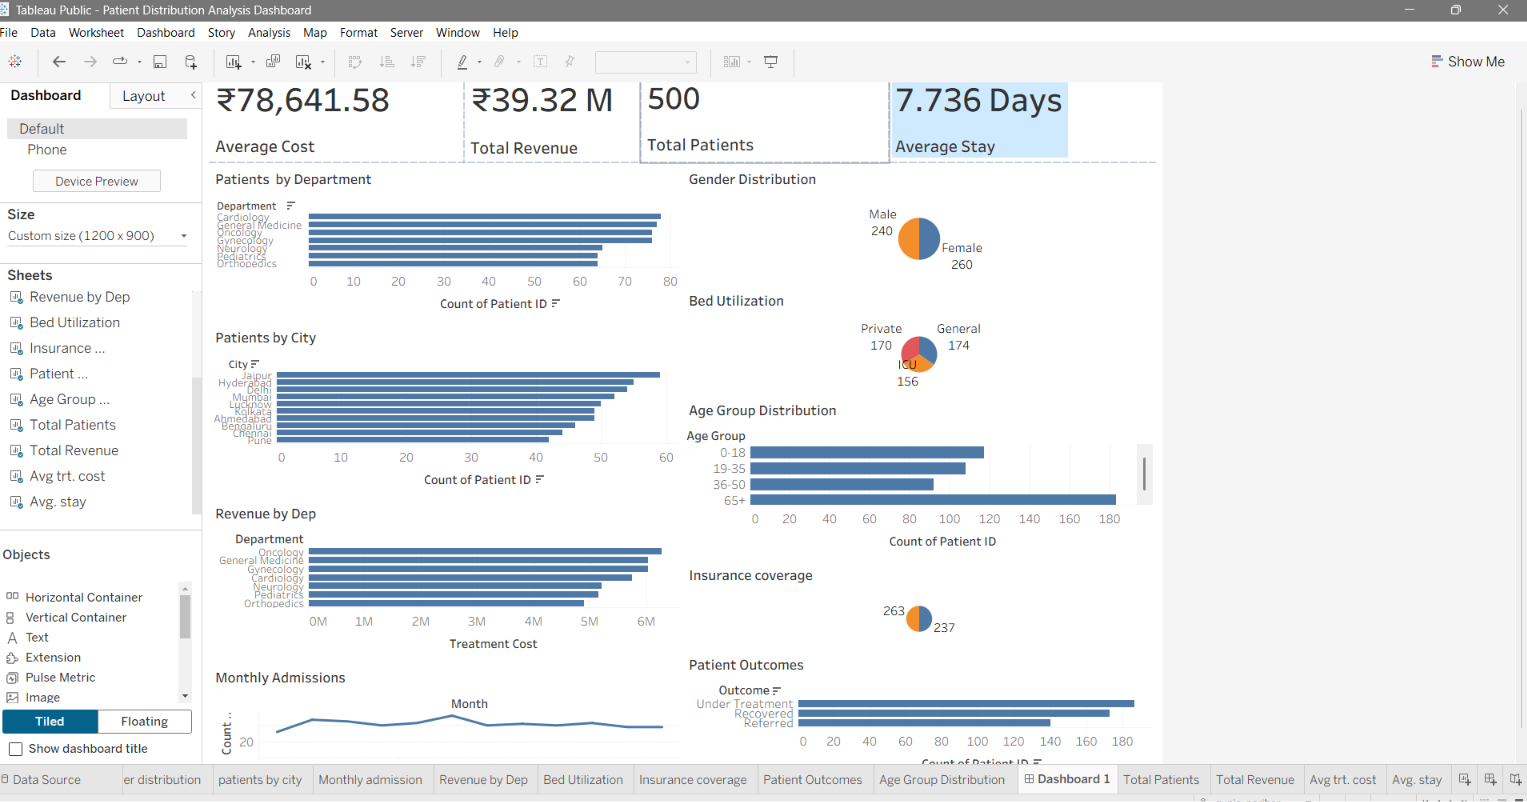

This screenshot's page, from the dashboard's own definition file:
{"tool":"tableau","page":{"name":"Dashboard 1","canvas":[1200,900],"ordinal":0},"visuals":[{"type":"worksheet","title":"Avg trt. cost","mark":"Automatic","box":[8,8,319,111]},{"type":"worksheet","title":"Total Revenue","mark":"Text","box":[327,8,221,111]},{"type":"worksheet","title":"Total Patients","mark":"Automatic","box":[548,8,310,111]},{"type":"worksheet","title":"Avg. stay","mark":"Automatic","box":[858,8,334,111]},{"type":"worksheet","title":"Patients by dep","mark":"Bar","rows":["Department"],"cols":["Patient ID"],"box":[8,119,591.9,198]},{"type":"worksheet","title":"Gender distribution","mark":"Pie","box":[599.9,119,592.1,152]},{"type":"worksheet","title":"Bed Utilization","mark":"Pie","box":[599.9,271,592.1,137]},{"type":"worksheet","title":"patients by city","mark":"Automatic","rows":["City"],"cols":["Patient ID"],"box":[8,317,591.9,220]},{"type":"worksheet","title":"Age Group Distribution","mark":"Automatic","rows":["Age Group"],"cols":["Patient ID"],"box":[599.9,408,592.1,206]},{"type":"worksheet","title":"Revenue by Dep","mark":"Automatic","rows":["Department"],"cols":["Treatment Cost"],"box":[8,537,591.9,205]},{"type":"worksheet","title":"Insurance coverage","mark":"Pie","box":[599.9,614,592.1,112]},{"type":"worksheet","title":"Patient Outcomes","mark":"Automatic","rows":["Outcome"],"cols":["Patient ID"],"box":[599.9,726,592.1,166]},{"type":"worksheet","title":"Monthly admission","mark":"Line","rows":["Patient ID"],"cols":["Month"],"box":[8,742,591.9,150]}]}

Visuals, with their boxes on the page's 1200x900 design canvas (x1, y1, x2, y2). These are canvas units, not pixel positions in the 1527x802 screenshot, which may show the page scaled, cropped or inside an application window:
"Avg trt. cost" worksheet: {"x1": 8, "y1": 8, "x2": 327, "y2": 119}
"Total Revenue" worksheet (Text marks): {"x1": 327, "y1": 8, "x2": 548, "y2": 119}
"Total Patients" worksheet: {"x1": 548, "y1": 8, "x2": 858, "y2": 119}
"Avg. stay" worksheet: {"x1": 858, "y1": 8, "x2": 1192, "y2": 119}
"Patients by dep" worksheet (Bar marks): {"x1": 8, "y1": 119, "x2": 600, "y2": 317}
"Gender distribution" worksheet (Pie marks): {"x1": 600, "y1": 119, "x2": 1192, "y2": 271}
"Bed Utilization" worksheet (Pie marks): {"x1": 600, "y1": 271, "x2": 1192, "y2": 408}
"patients by city" worksheet: {"x1": 8, "y1": 317, "x2": 600, "y2": 537}
"Age Group Distribution" worksheet: {"x1": 600, "y1": 408, "x2": 1192, "y2": 614}
"Revenue by Dep" worksheet: {"x1": 8, "y1": 537, "x2": 600, "y2": 742}
"Insurance coverage" worksheet (Pie marks): {"x1": 600, "y1": 614, "x2": 1192, "y2": 726}
"Patient Outcomes" worksheet: {"x1": 600, "y1": 726, "x2": 1192, "y2": 892}
"Monthly admission" worksheet (Line marks): {"x1": 8, "y1": 742, "x2": 600, "y2": 892}
